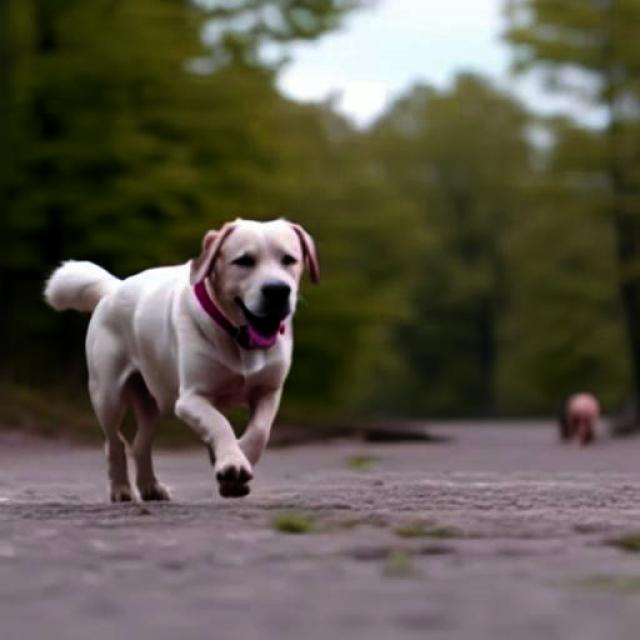Dog: (44, 213, 320, 502)
